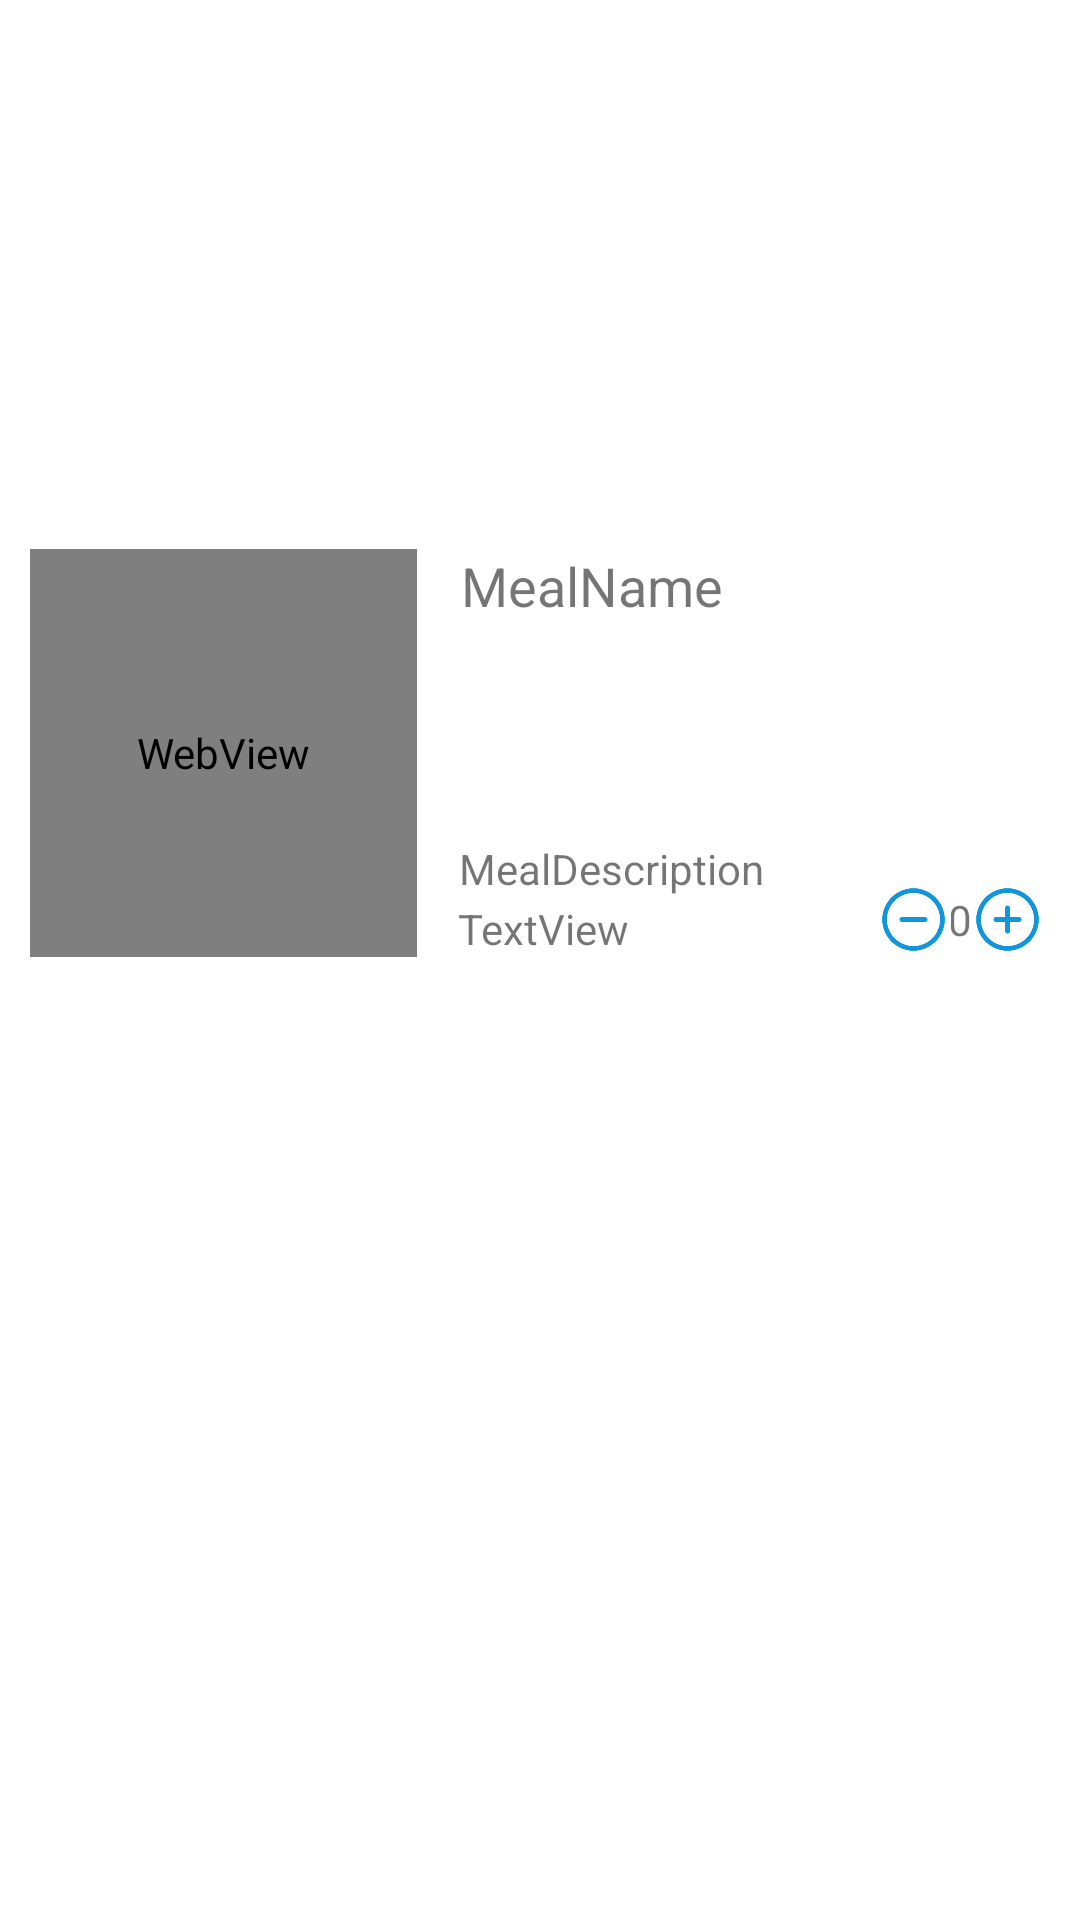

Screen size 1080px x 1920px. Icon name, then its box in pixels as region(x1, y1, x2, y2):
add: region(976, 888, 1039, 951)
reduce: region(882, 888, 945, 951)
